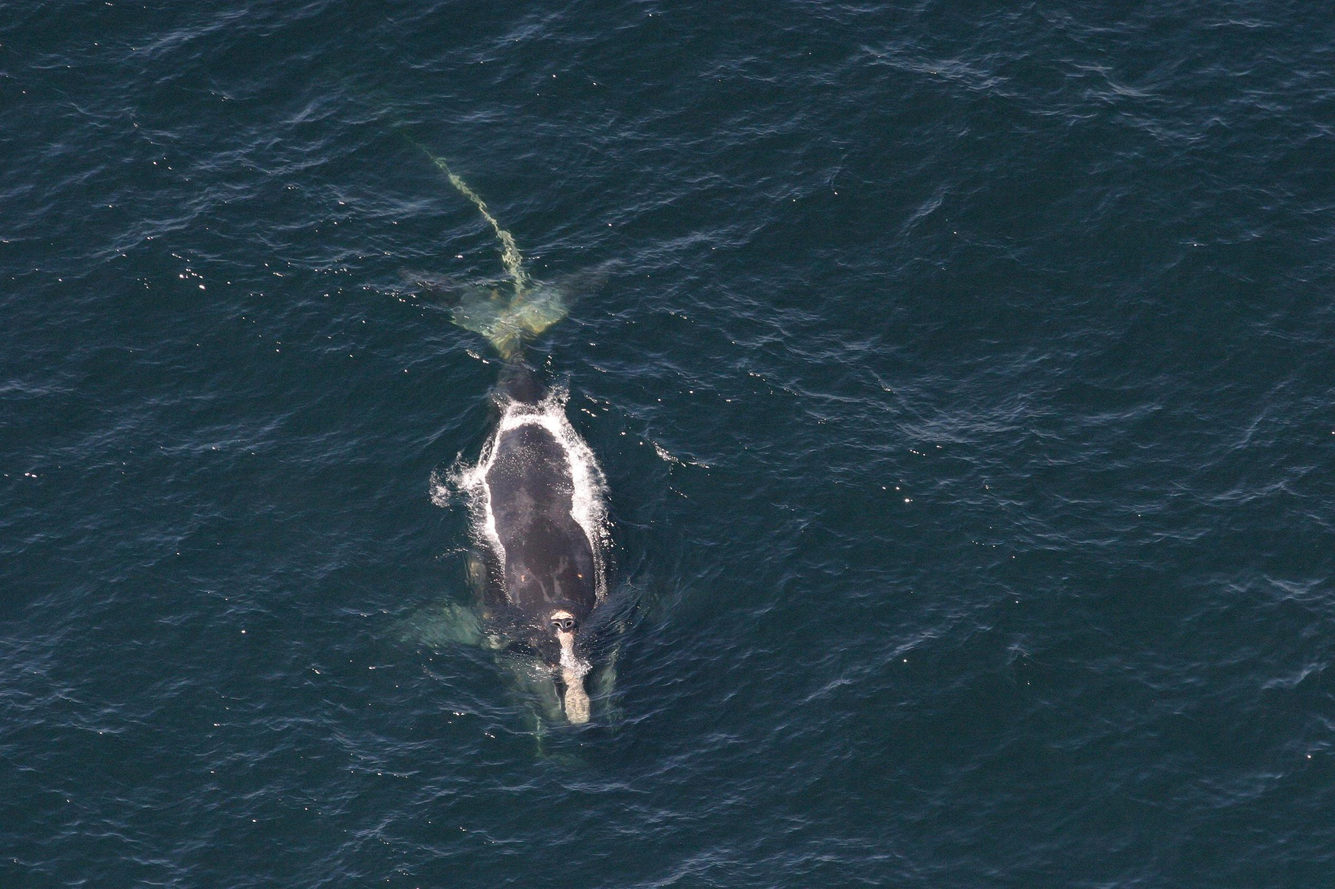whale: (377, 249, 728, 770)
